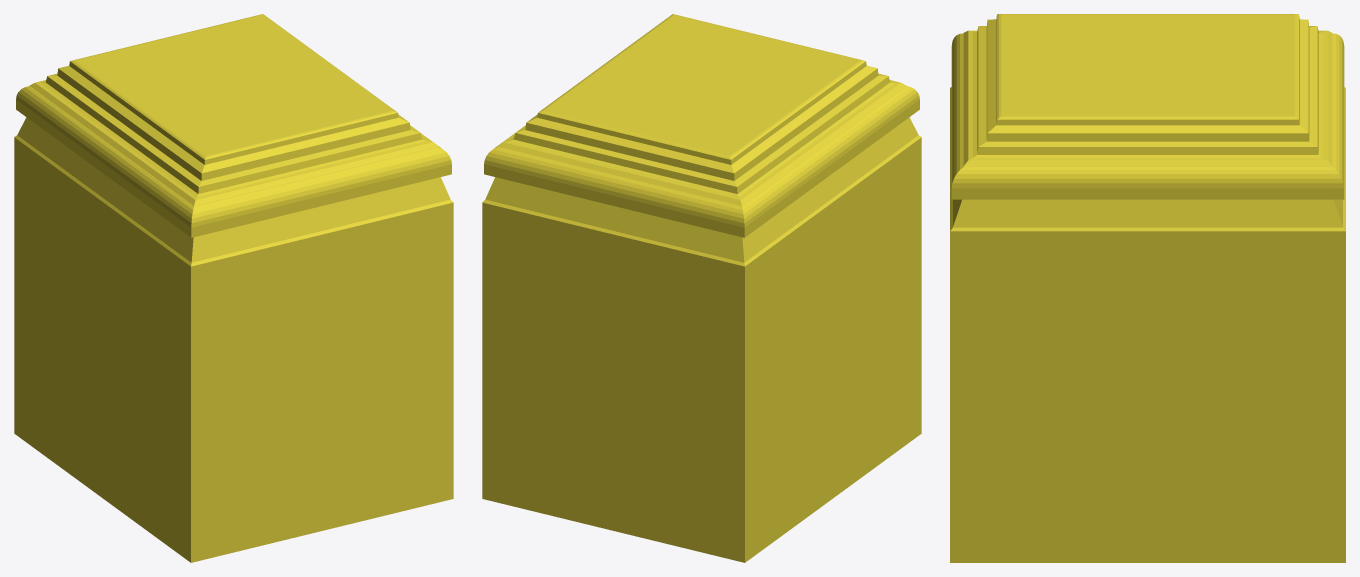
The model's file is SuportePilastraReta.fbx.
3 views of the same model, side by side, from view 1: azimuth 30°, elevation 25°; view 2: azimuth 150°, elevation 25°; view 3: azimuth 270°, elevation 25° (orthographic). The views are drawn at different scales.
Parts seen in each view (by area): view 1: SuportePilastraReta; view 2: SuportePilastraReta; view 3: SuportePilastraReta.
Boxes of the visible parts, <box> form: SuportePilastraReta: <box>14,14,453,562</box>; SuportePilastraReta: <box>482,14,921,562</box>; SuportePilastraReta: <box>950,14,1345,562</box>.
Size of the model in its own units: 82.24 by 114 by 95.87.
